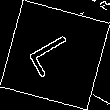L_NE: (26, 29, 84, 81)
